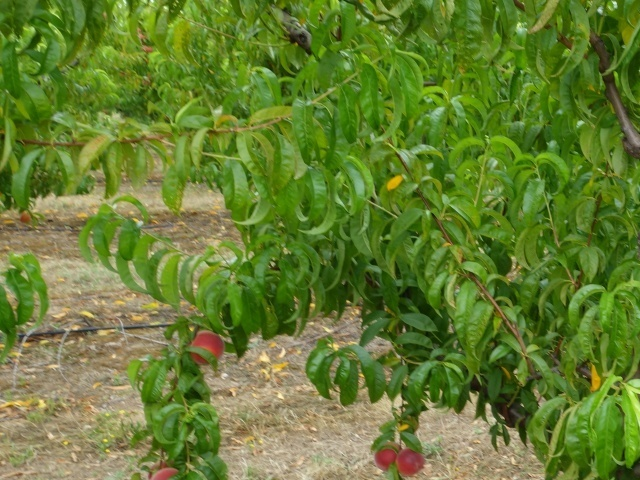peach: (184, 329, 227, 368), (392, 448, 429, 479), (373, 441, 404, 473), (145, 464, 187, 479)
